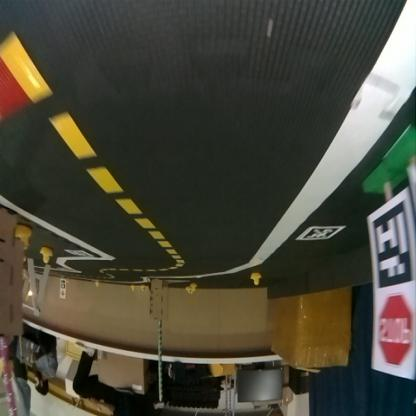Duckie: (14, 227, 30, 247), (39, 248, 52, 264), (250, 274, 260, 286), (190, 284, 197, 292), (142, 284, 146, 292), (130, 286, 135, 292), (186, 288, 190, 294)
QR code: (372, 200, 412, 290), (297, 228, 345, 241), (64, 250, 93, 258)
Stop sign: (377, 297, 412, 365)
